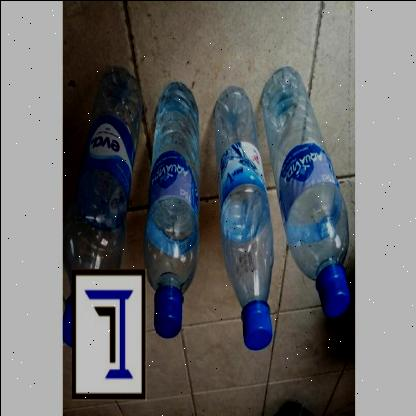Plastic Bottle: (260, 66, 350, 316), (212, 86, 272, 350), (62, 66, 140, 268), (142, 81, 198, 337)
